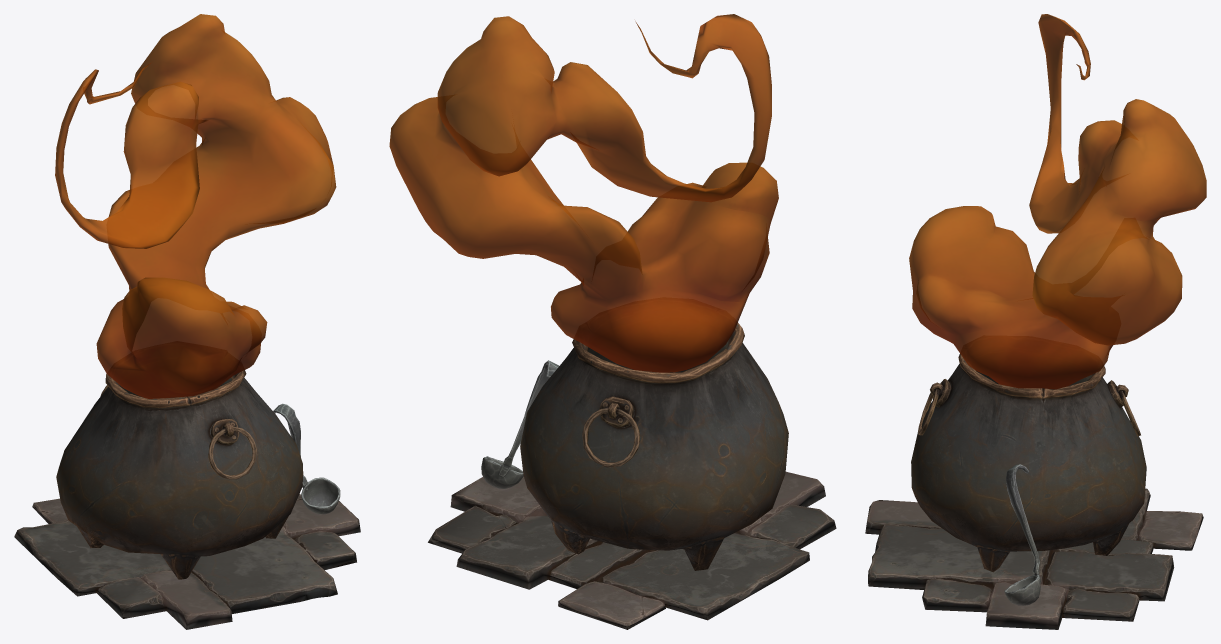
The picture shows the model from 3 angles, left to right: view 1: azimuth 30°, elevation 25°; view 2: azimuth 150°, elevation 25°; view 3: azimuth 270°, elevation 25°; orthographic projection. The views are drawn at different scales.
Parts seen in each view (by area): view 1: Smoke_low:Group18779, Group41435, BricksGround_low:Group32274, Ladle_low:Group51337, Group9707; view 2: Smoke_low:Group18779, Group41435, BricksGround_low:Group32274, Ladle_low:Group51337, Group41353, Group61343; view 3: Smoke_low:Group18779, Group41435, BricksGround_low:Group32274, Ladle_low:Group51337.
Part boxes in pixels (x1=…): Smoke_low:Group18779: x1=55, y1=14, x2=336, y2=398; Group41435: x1=56, y1=370, x2=303, y2=579; BricksGround_low:Group32274: x1=14, y1=493, x2=360, y2=629; Ladle_low:Group51337: x1=273, y1=403, x2=340, y2=514; Group9707: x1=208, y1=426, x2=256, y2=479; Smoke_low:Group18779: x1=389, y1=14, x2=778, y2=372; Group41435: x1=520, y1=322, x2=788, y2=570; BricksGround_low:Group32274: x1=428, y1=471, x2=836, y2=629; Ladle_low:Group51337: x1=481, y1=360, x2=558, y2=488; Group41353: x1=582, y1=407, x2=640, y2=467; Group61343: x1=599, y1=396, x2=634, y2=428; Smoke_low:Group18779: x1=909, y1=14, x2=1206, y2=389; Group41435: x1=911, y1=353, x2=1146, y2=572; BricksGround_low:Group32274: x1=865, y1=488, x2=1203, y2=629; Ladle_low:Group51337: x1=1004, y1=464, x2=1041, y2=605.
Size of the model in its own units: 1.35 by 2.08 by 1.3.
4 materials, 4 textured.
